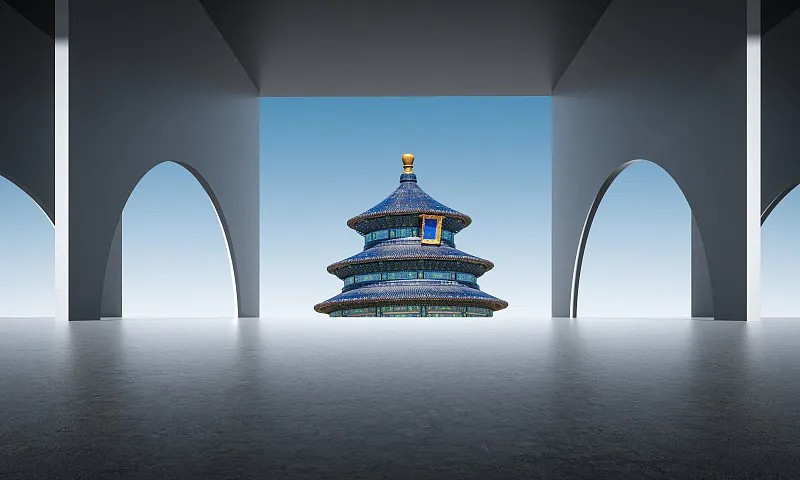Heaven: (312, 151, 509, 317)
